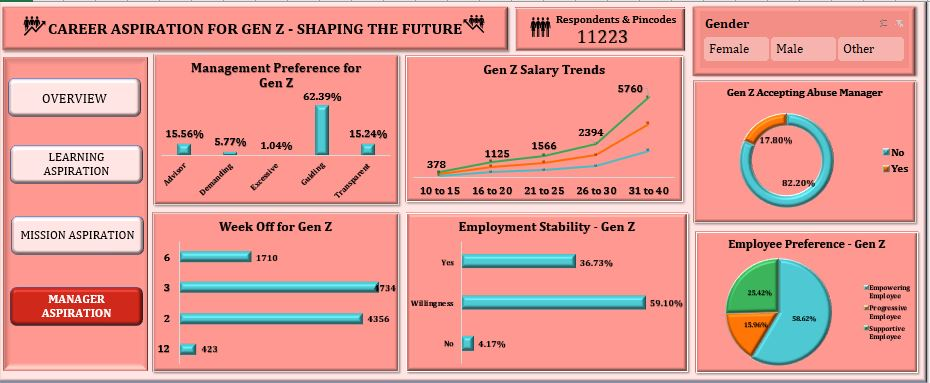

What the dashboard file says about the page in this screenshot:
{"tool":"powerbi","page":{"name":"Manager Aspiration","canvas":[1280,720],"ordinal":0},"visuals":[{"type":"shape","box":[19.8,69.4,171.5,646.3],"z":0},{"type":"shape","box":[807.9,7.1,228.2,56.7],"z":1000},{"type":"shape","box":[5.7,7.1,661.9,56.7],"z":2000},{"type":"slicer","fields":{"Values":["Table1_2.Gender"]},"box":[32.6,92.1,143.1,144.6],"z":3000},{"type":"slicer","fields":{"Values":["Table1_2.Country"]},"box":[32.6,252.3,143.1,276.4],"z":4000},{"type":"slicer","fields":{"Values":["Table1_2.Workplace"]},"box":[32.6,547.1,143.1,144.6],"z":5000},{"type":"card","title":"Total Respondents","fields":{"Values":["CountNonNull(Table1_2.Email)"]},"box":[201.3,69.4,174.3,83.6],"z":6000},{"type":"card","title":"Total Pincodes","fields":{"Values":["CountNonNull(Table1_2.Email)"]},"box":[392.6,69.4,174.3,83.6],"z":7000},{"type":"barChart","title":"Management Preference For Gen Z","fields":{"Category":["Table1_2.Management Preference"],"Y":["CountNonNull(Table1_2.Management Preference)"],"Series":["Table1_2.Management Preference"]},"box":[201.3,163,365.7,182.8],"z":8000},{"type":"shape","box":[1051.8,7.1,228.2,56.7],"z":9000},{"type":"donutChart","title":"Gen Z - Accepting Abuse Manager","fields":{"Y":["CountNonNull(Table1_2.Accept abusive manager)"],"Category":["Table1_2.Accept abusive manager"]},"box":[581.1,69.4,266.5,276.4],"z":10000},{"type":"columnChart","title":"Salary Trends For Gen Z","fields":{"Category":["Table1_2.Expected Monthly Salary after 5 years Experience"],"Y":["CountNonNull(Table1_2.Expected Monthly Salary after 5 years Experience)","CountNonNull(Table1_2.Minimum salary expectation as a fresher)","CountNonNull(Table1_2.Minimum salary expectation for first 3 years)"]},"box":[201.3,355.7,365.7,360],"z":11000},{"type":"stackedAreaChart","title":"Team Preference For Gen Z","fields":{"Category":["Table1_2.Work Preference"],"Y":["CountNonNull(Table1_2.Work Preference)"]},"box":[581.1,355.7,385.5,360],"z":12000},{"type":"funnel","title":"Preferred Company Of Gen Z","fields":{"Category":["Table1_2.Preferred Company Type"],"Y":["CountNonNull(Table1_2.Preferred Company Type)"]},"box":[857.5,69.4,418.1,275],"z":13000},{"type":"ribbonChart","title":"Gen Z In No Remote ","fields":{"Category":["Table1_2.Open to a no-remote"],"Y":["Sum(Table1_2.Open to a no-remote)"],"Series":["Table1_2.Open to a no-remote"]},"box":[978,355.7,297.6,360],"z":14000}]}

Visuals, with their boxes on the page's 1280x720 design canvas (x1, y1, x2, y2). These are canvas units, not pixel positions in the 930x383 screenshot, which may show the page scaled, cropped or inside an application window:
shape: (20, 69, 191, 716)
shape: (808, 7, 1036, 64)
shape: (6, 7, 668, 64)
slicer - Table1_2.Gender: (33, 92, 176, 237)
slicer - Table1_2.Country: (33, 252, 176, 529)
slicer - Table1_2.Workplace: (33, 547, 176, 692)
"Total Respondents" card: (201, 69, 376, 153)
"Total Pincodes" card: (393, 69, 567, 153)
"Management Preference For Gen Z" barChart: (201, 163, 567, 346)
shape: (1052, 7, 1280, 64)
"Gen Z - Accepting Abuse Manager" donutChart: (581, 69, 848, 346)
"Salary Trends For Gen Z" columnChart: (201, 356, 567, 716)
"Team Preference For Gen Z" stackedAreaChart: (581, 356, 967, 716)
"Preferred Company Of Gen Z" funnel: (858, 69, 1276, 344)
"Gen Z In No Remote " ribbonChart: (978, 356, 1276, 716)
